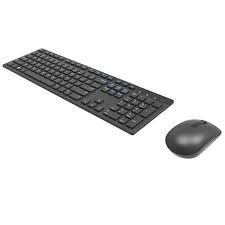mouse: (161, 116, 212, 166)
